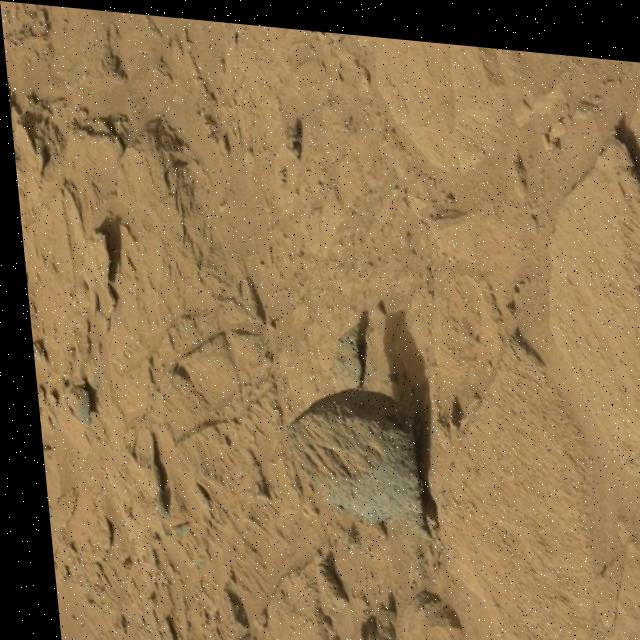mars-rocks: (280, 381, 421, 529)
